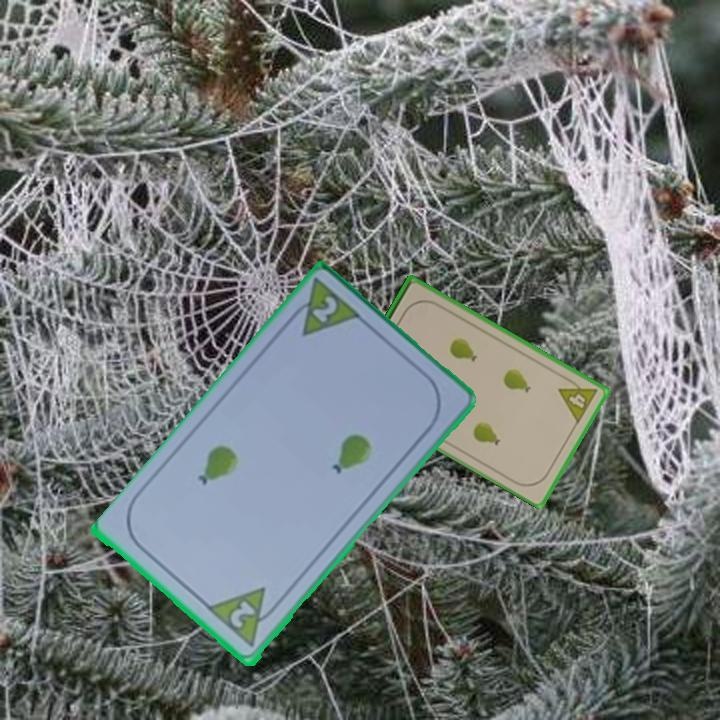2p: (205, 583, 284, 652), (308, 292, 341, 327)
4p: (555, 373, 600, 426)
